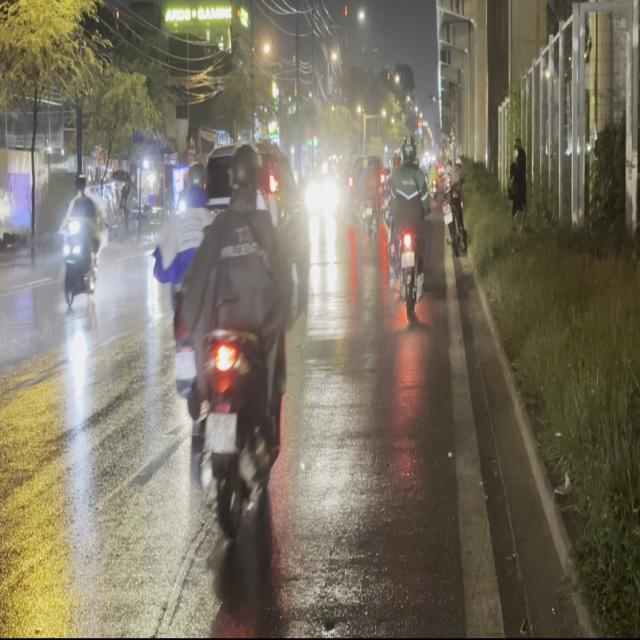helmet: (226, 140, 262, 207), (402, 134, 417, 164)
licenseplate: (170, 131, 306, 615), (387, 134, 433, 322)
nohelmet: (204, 412, 236, 451), (400, 251, 414, 267)
